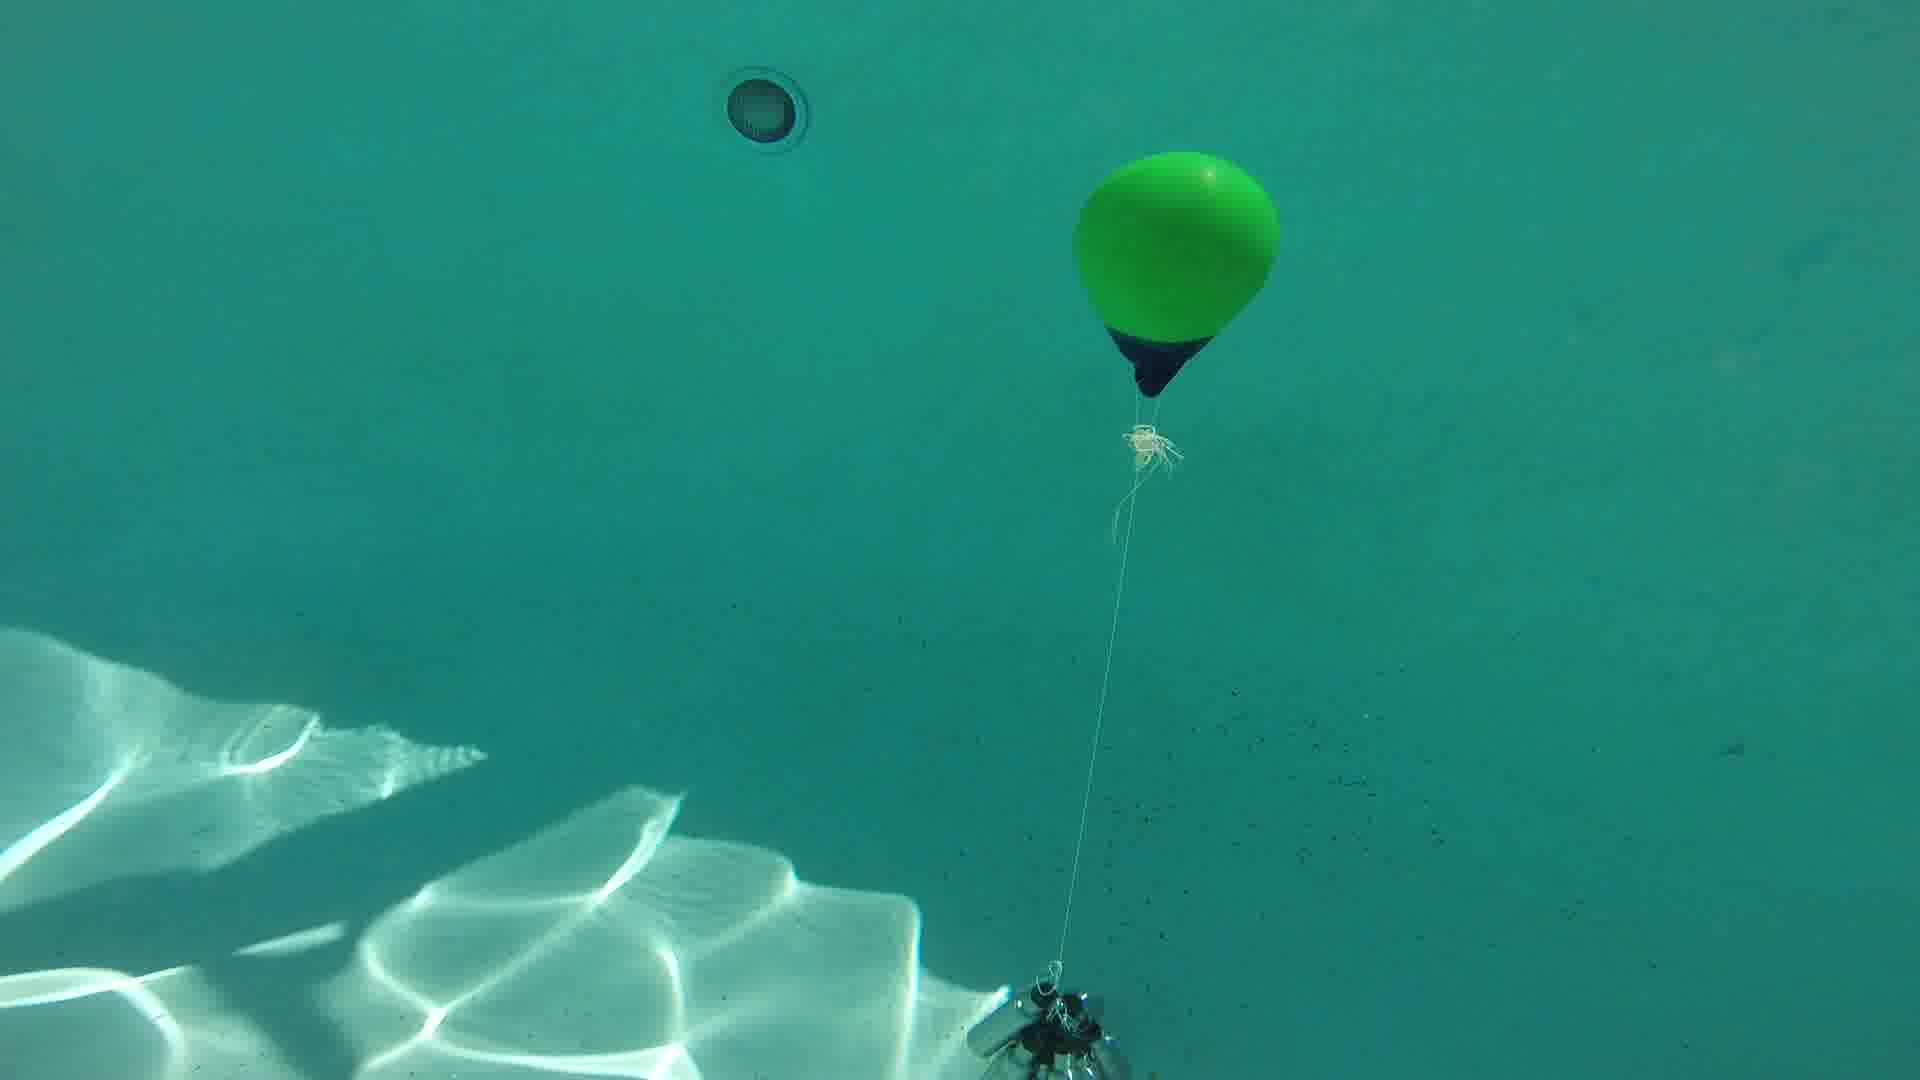yellow_buoy: (1073, 148, 1280, 402)
